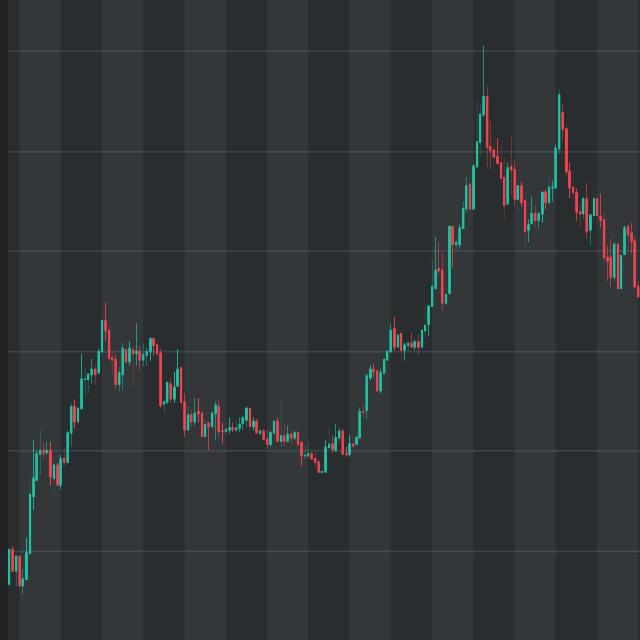Falling-Wedge: (84, 231, 372, 502)
